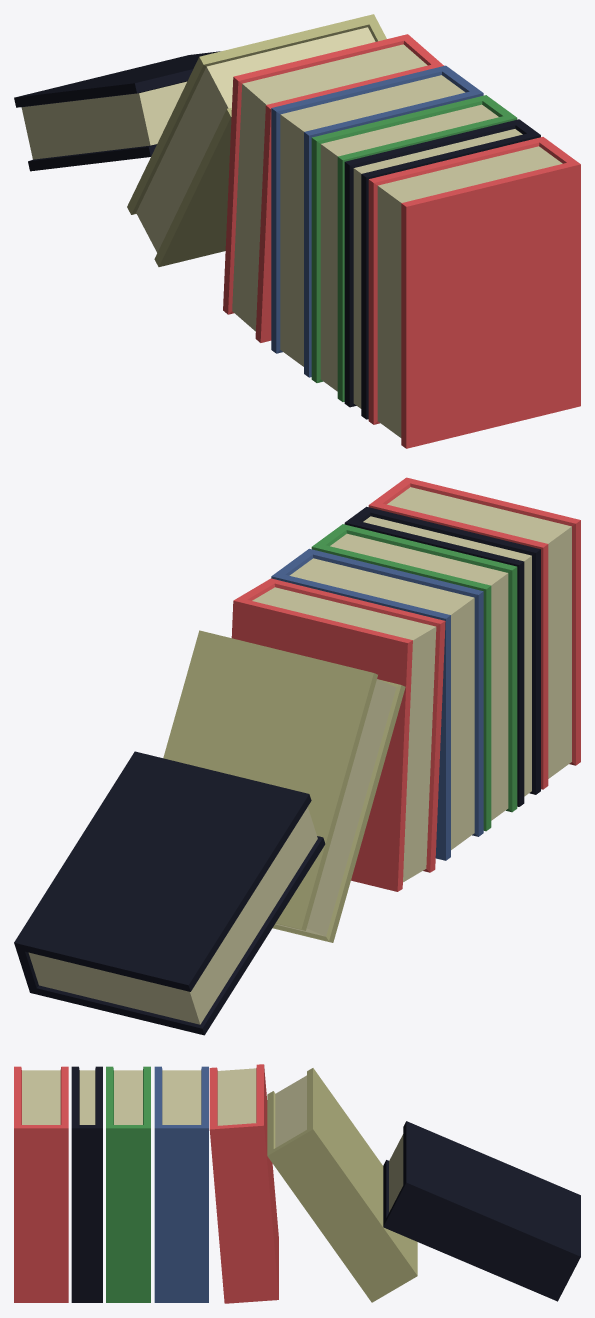
File: libros.fbx
The picture shows the model from 3 angles, top to bottom: view 1: azimuth 30°, elevation 25°; view 2: azimuth 150°, elevation 25°; view 3: azimuth 270°, elevation 25°; orthographic projection. The views are drawn at different scales.
Parts seen in each view (by area): view 1: libro01, libro06, libro05, libro04, libro03, libro07, libro02; view 2: libro07, libro06, libro05, libro04, libro01, libro03, libro02; view 3: libro07, libro06, libro05, libro04, libro01, libro03, libro02.
Part boxes in pixels (x1,y1,x2,y2): libro01: (368,137,580,448); libro06: (127,14,386,266); libro05: (223,34,443,342); libro04: (271,65,483,377); libro03: (311,95,517,401); libro07: (14,51,220,171); libro02: (344,119,540,419); libro07: (14,751,325,1035); libro06: (163,630,405,942); libro05: (231,578,445,891); libro04: (271,548,483,860); libro01: (368,477,580,789); libro03: (311,524,517,831); libro02: (344,506,540,806); libro07: (383,1121,580,1301); libro06: (267,1068,417,1302); libro05: (209,1064,278,1303); libro04: (154,1066,208,1302); libro01: (14,1066,68,1302); libro03: (106,1066,150,1302); libro02: (71,1066,102,1302).
Size of the model in its own units: 534 by 720 by 2078.
